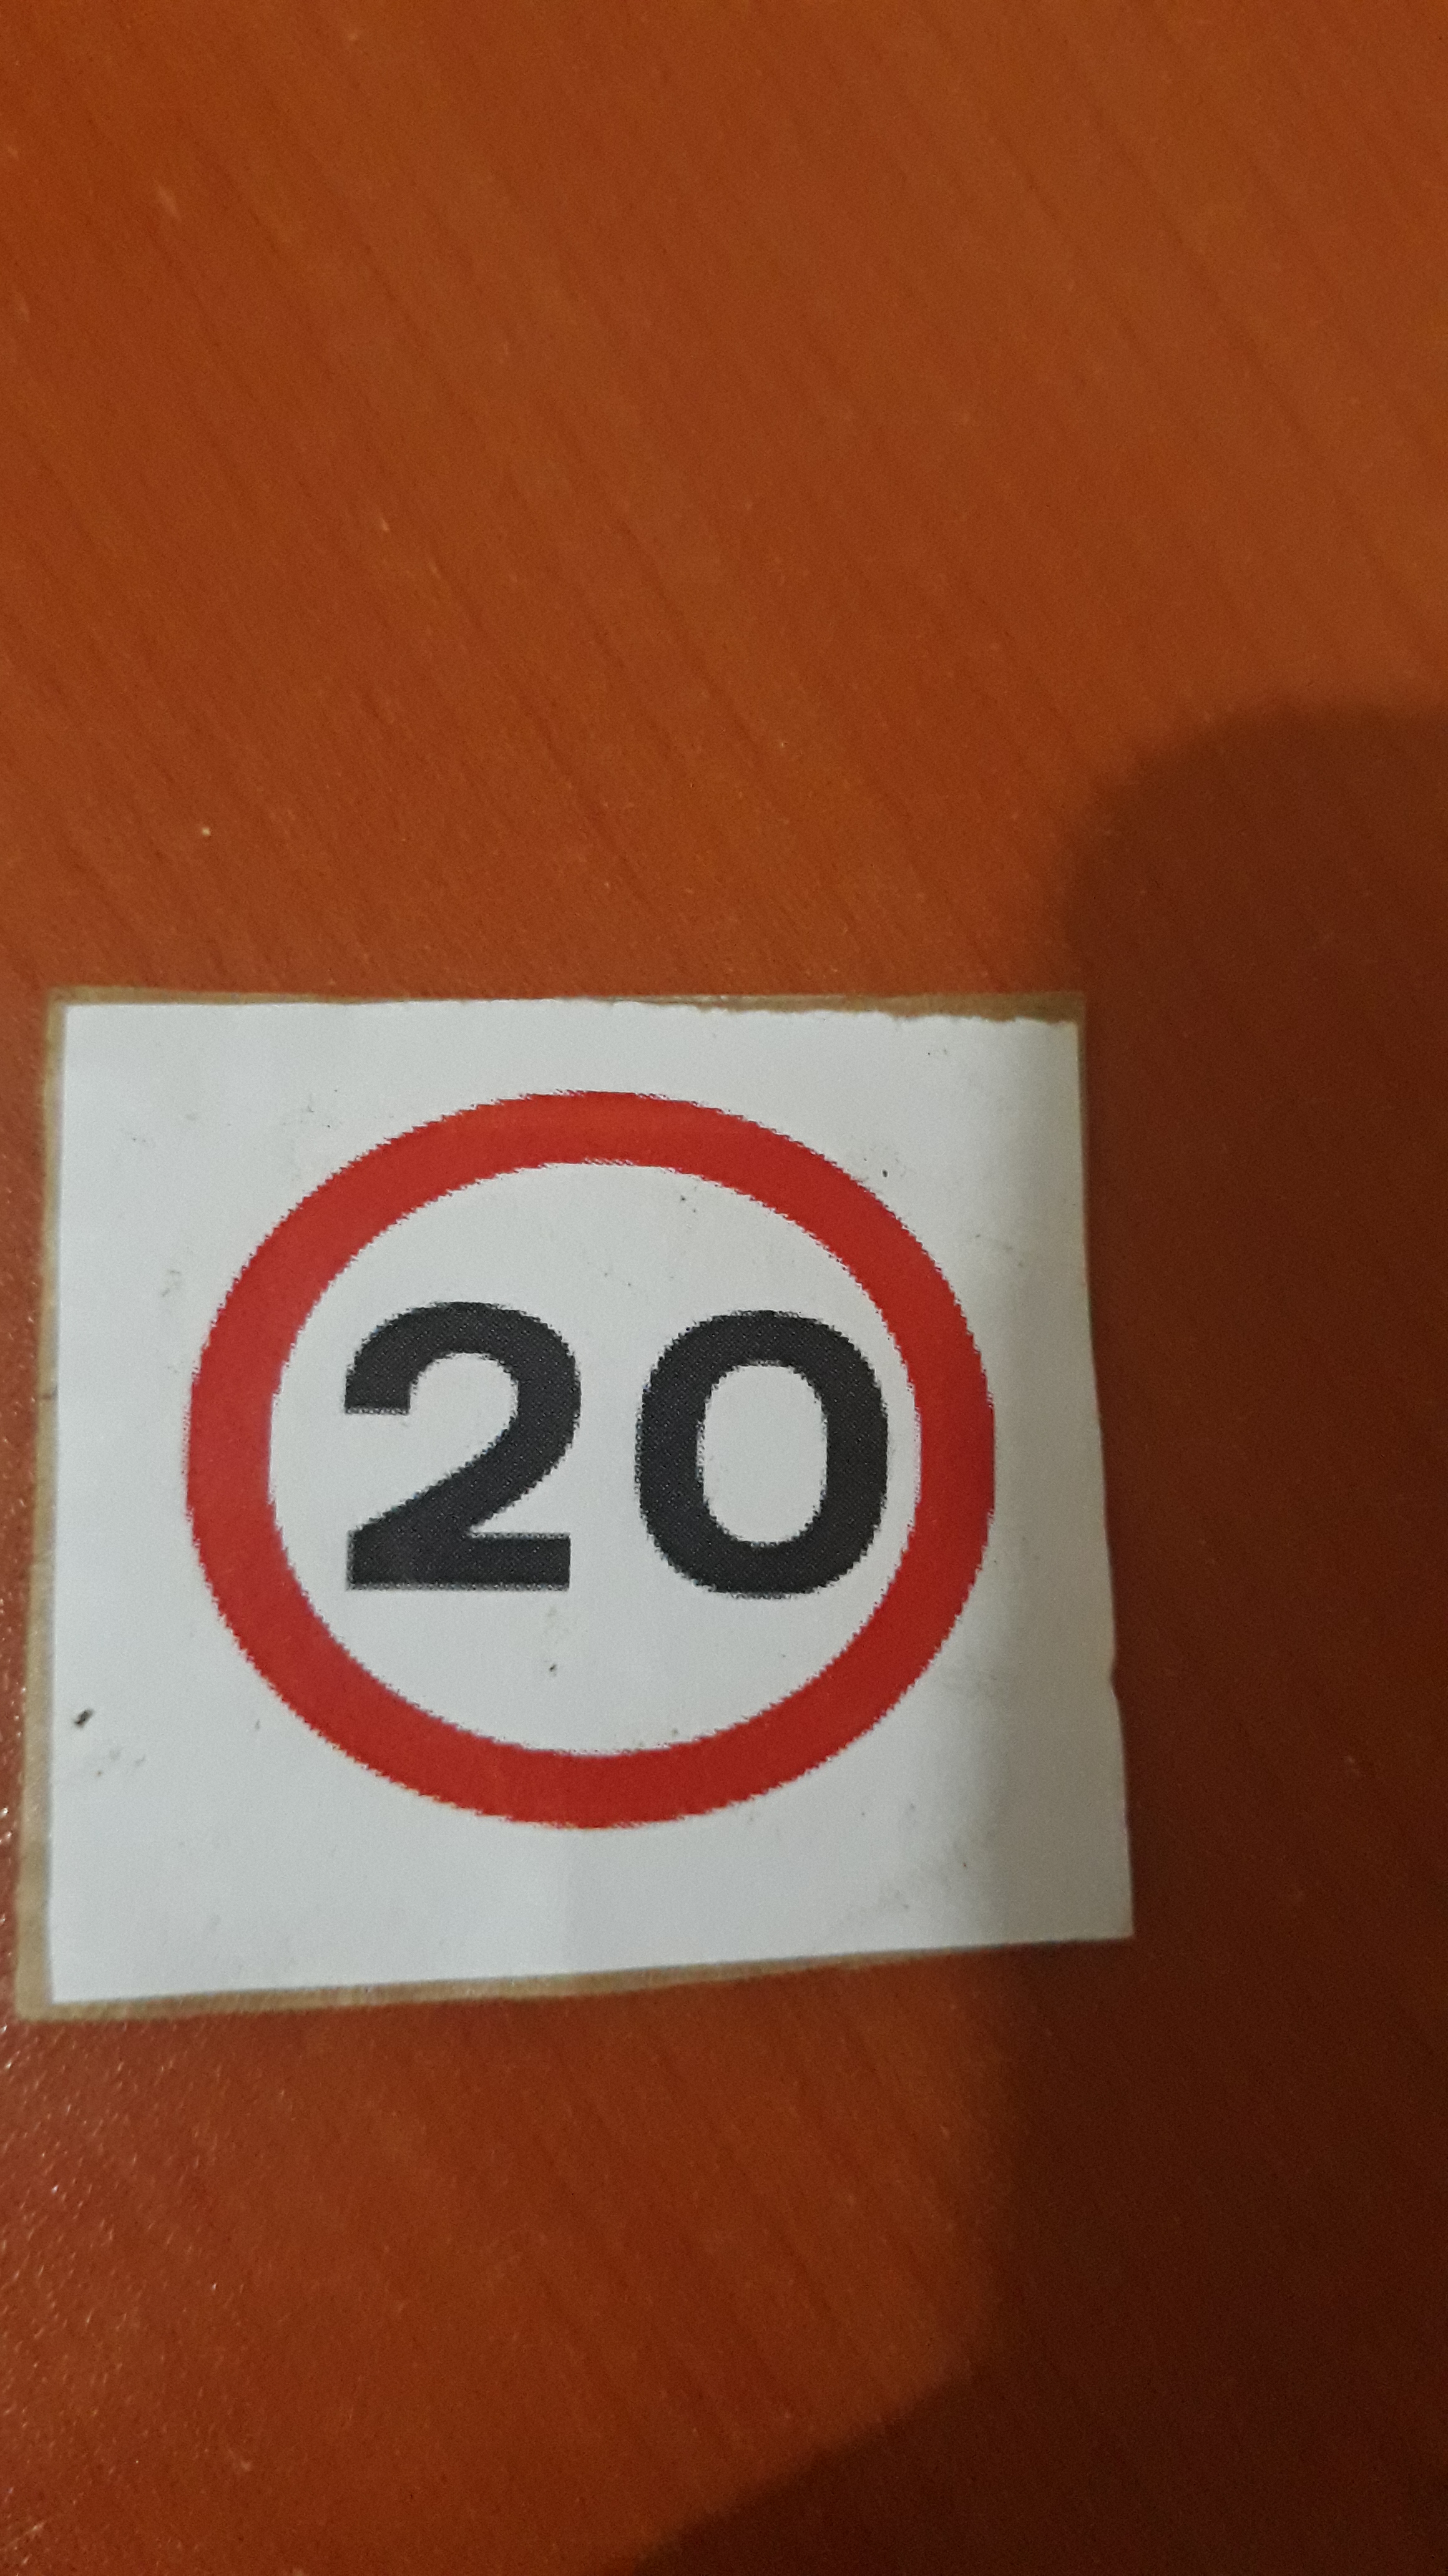20 kph: (182, 1081, 1032, 1854)
